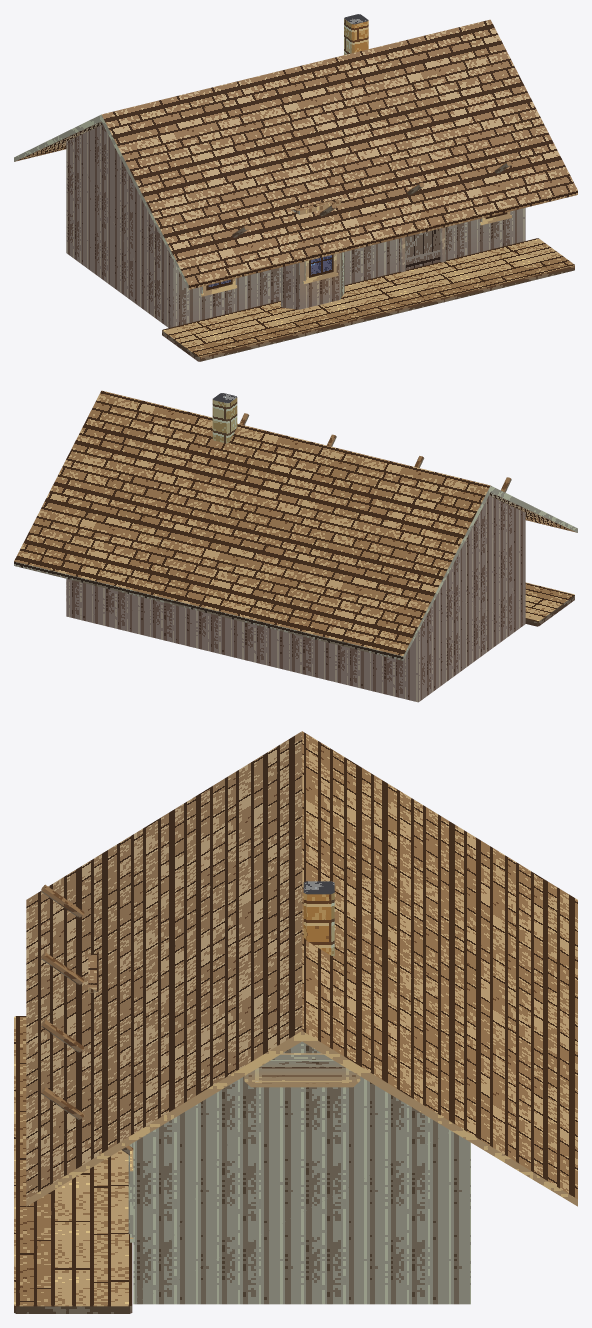
File: wrail.station.glb
The picture shows the model from 3 angles, top to bottom: view 1: azimuth 30°, elevation 25°; view 2: azimuth 150°, elevation 25°; view 3: azimuth 270°, elevation 25°; orthographic projection. The views are drawn at different scales.
Visible parts, largest first — view 1: kit_roof, kit_body, kit_deck, kit_bay, kit_card_panes, kit_chimney, kit_windows; view 2: kit_roof, kit_body, kit_deck, kit_chimney; view 3: kit_roof, kit_body, kit_deck, kit_card_panes, kit_chimney, kit_braces, kit_trim.
Boxes of the visible parts, bbox=[...] form: kit_roof: bbox=[14, 19, 577, 289]; kit_body: bbox=[66, 125, 525, 327]; kit_deck: bbox=[162, 238, 574, 361]; kit_bay: bbox=[281, 197, 344, 309]; kit_card_panes: bbox=[206, 212, 507, 290]; kit_chimney: bbox=[344, 14, 368, 54]; kit_windows: bbox=[200, 211, 511, 296]; kit_roof: bbox=[14, 390, 577, 660]; kit_body: bbox=[66, 496, 525, 702]; kit_deck: bbox=[525, 582, 574, 626]; kit_chimney: bbox=[212, 393, 237, 443]; kit_roof: bbox=[26, 731, 577, 1206]; kit_body: bbox=[133, 1041, 470, 1304]; kit_deck: bbox=[14, 1016, 132, 1313]; kit_card_panes: bbox=[248, 1059, 355, 1083]; kit_chimney: bbox=[303, 881, 334, 956]; kit_braces: bbox=[41, 884, 133, 1155]; kit_trim: bbox=[128, 1053, 360, 1234].
Bounding box in the file's own units: 12.6 × 6.5 × 10.02.
10 materials, 10 textured.
